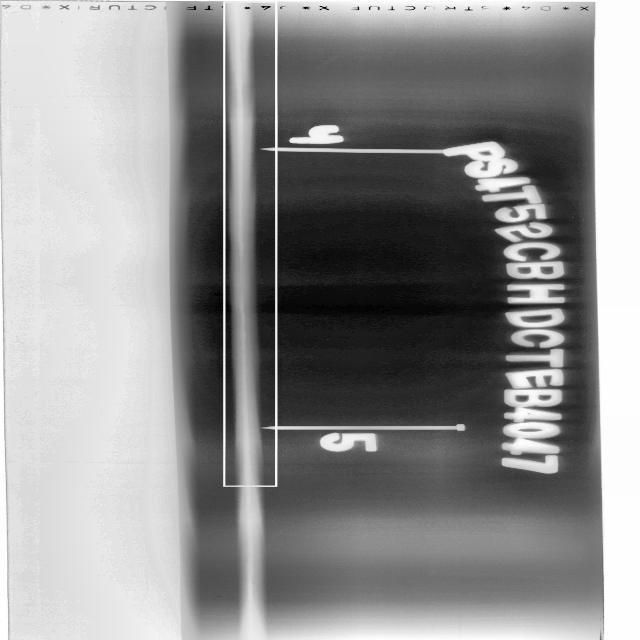LOP: (228, 6, 266, 484)
